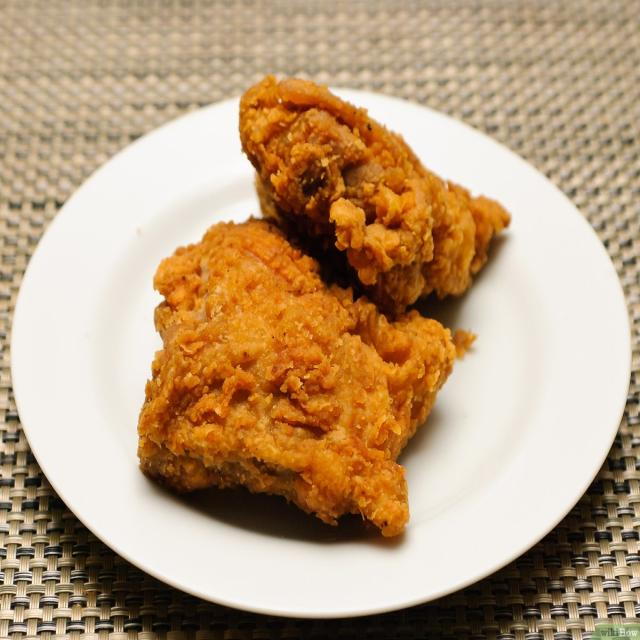Frango: (135, 218, 455, 540)
